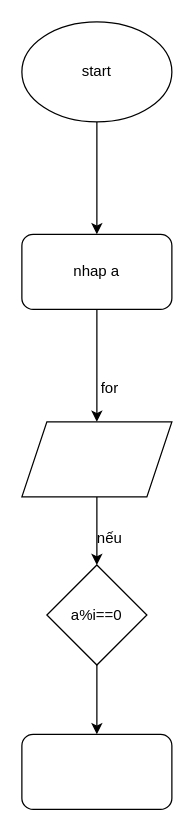
The diagram is 194 pixels wide and 831 high, and some of its shapes have lost their labels. The box of each missing label's shape, as (x1, y1, x2, y2) in pixels:
i=1;i<=a;i++: (21, 421, 172, 497)
print so uoc: (21, 733, 172, 809)
